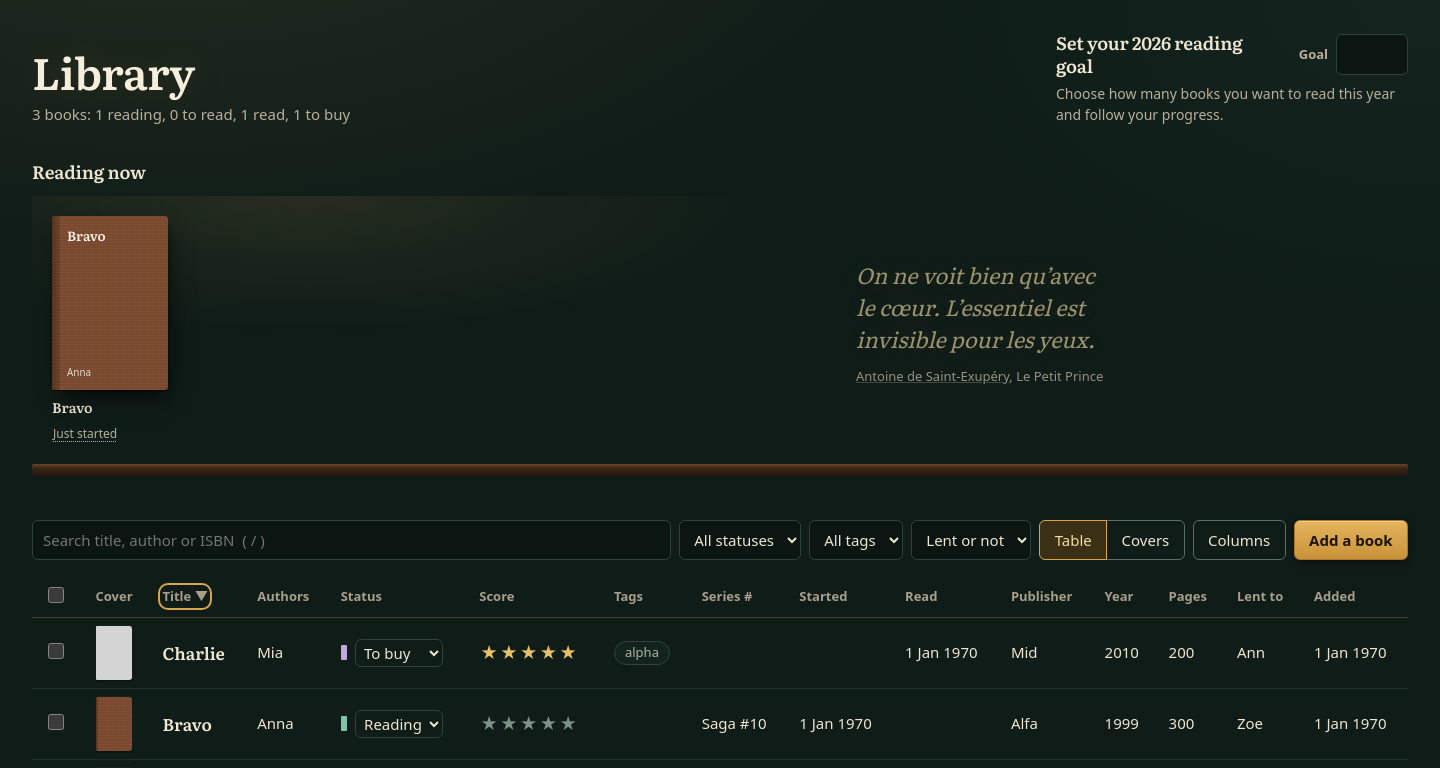
LibraryPage › sortsByEveryColumn
This screenshot has width=1440, height=768.
Earlier steps of the test are not shown.
Later steps or results of the test are not shown.
Expected: the column heading "Title ▼" has attribute aria-sort="descending", [150,576,245,617]
What coordinates should you click on to do the following:
click the button "Title ▼"
I would click on:
 (185, 596)
Its box is [162,587,208,606].
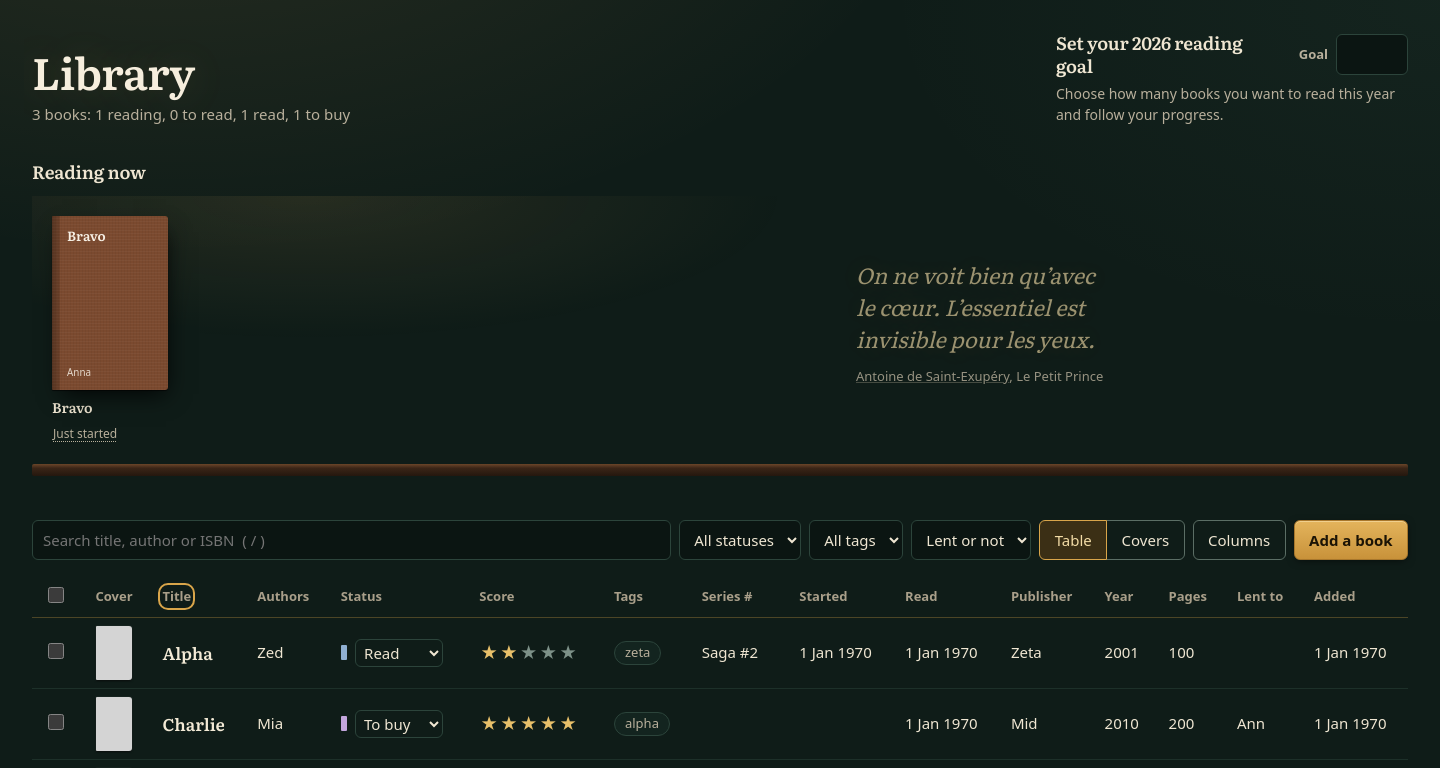
What coordinates should you click on to do the following:
click the button "Authors"
I would click on:
 (283, 596)
Its box is [257,587,309,606].
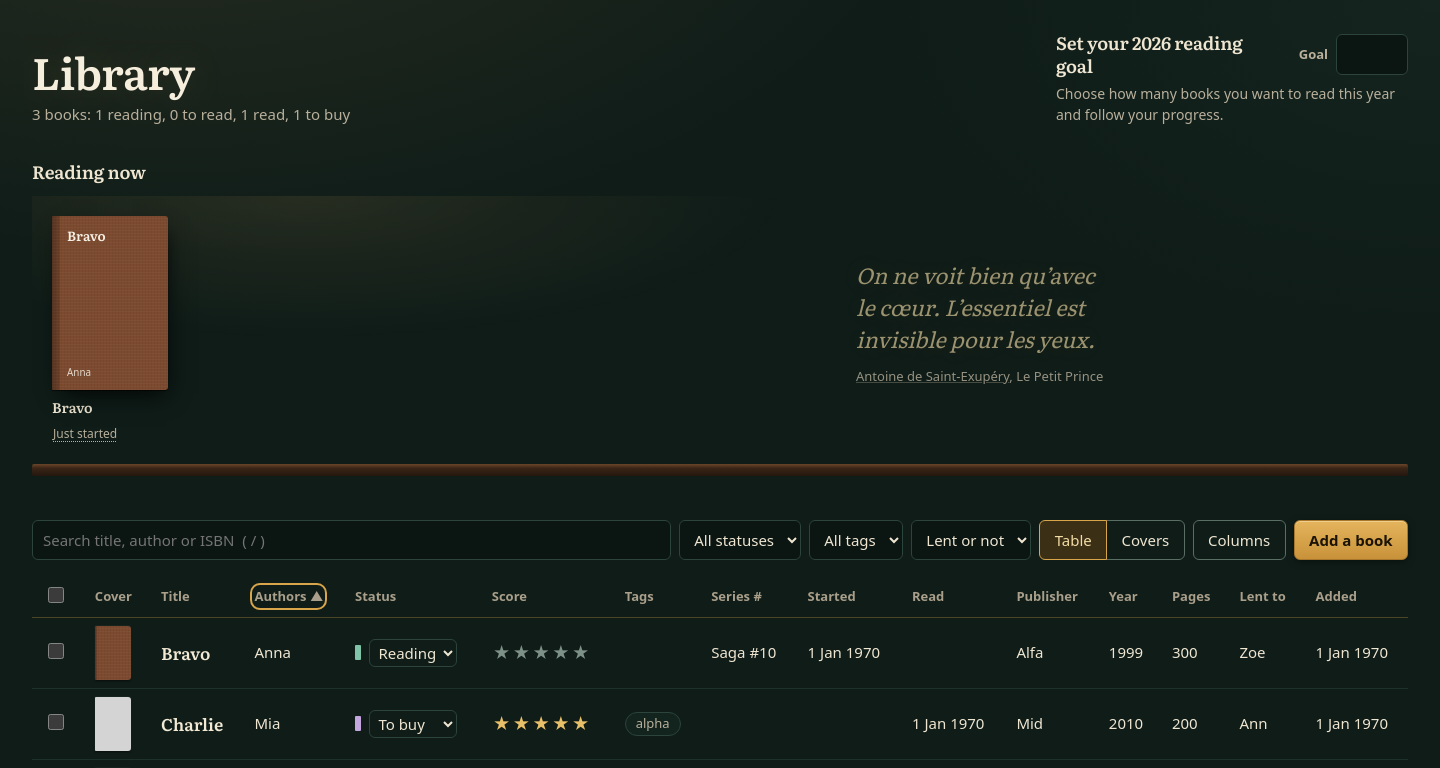
Now the column heading "Authors ▲" has attribute aria-sort="ascending", box [242,576,343,617]
What coordinates should you click on to do the following:
click the button "Authors ▲"
I would click on:
 (289, 596)
Its box is [254,587,323,606].
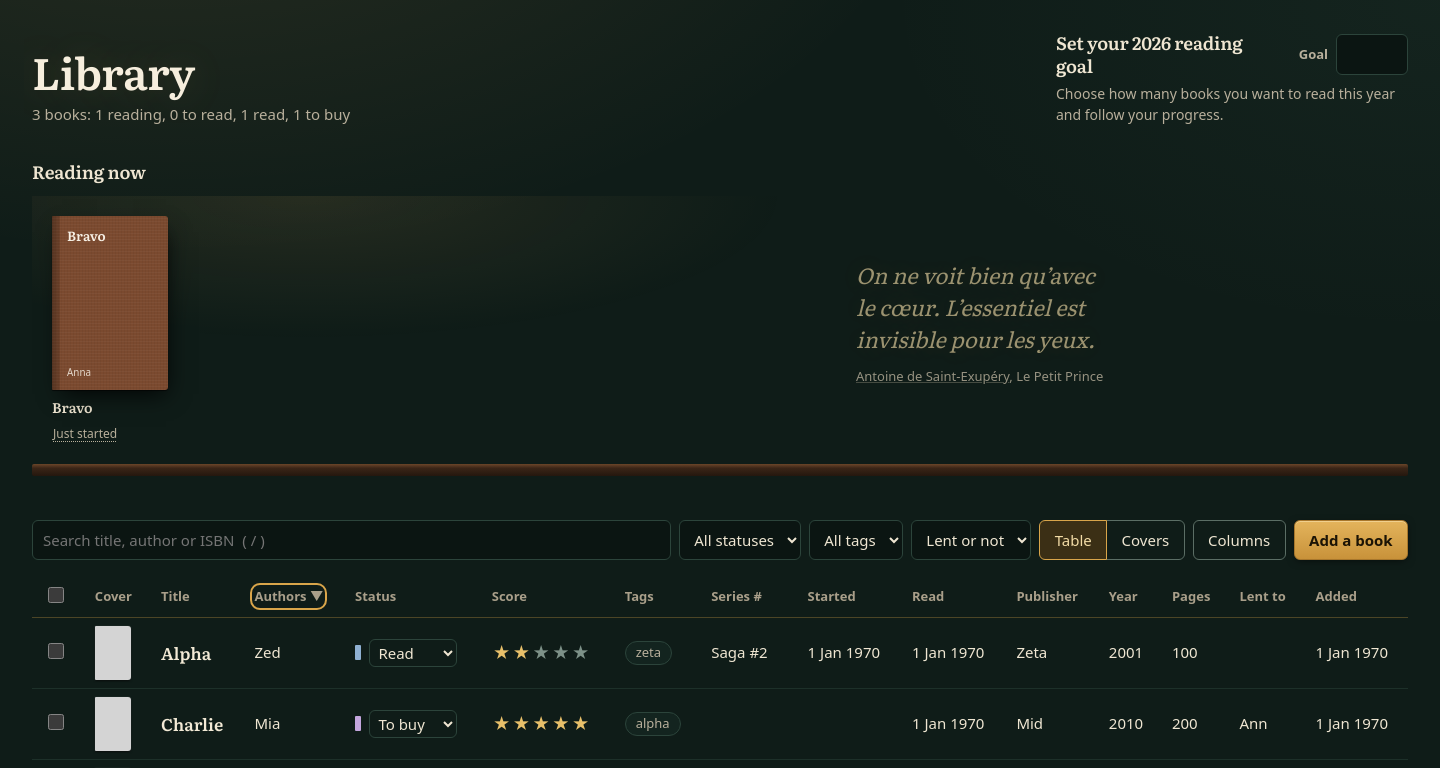
Now the column heading "Authors ▼" has attribute aria-sort="descending", box [242,576,343,617]
What coordinates should you click on to do the following:
click the button "Authors ▼"
I would click on:
 (289, 596)
Its box is [254,587,323,606].
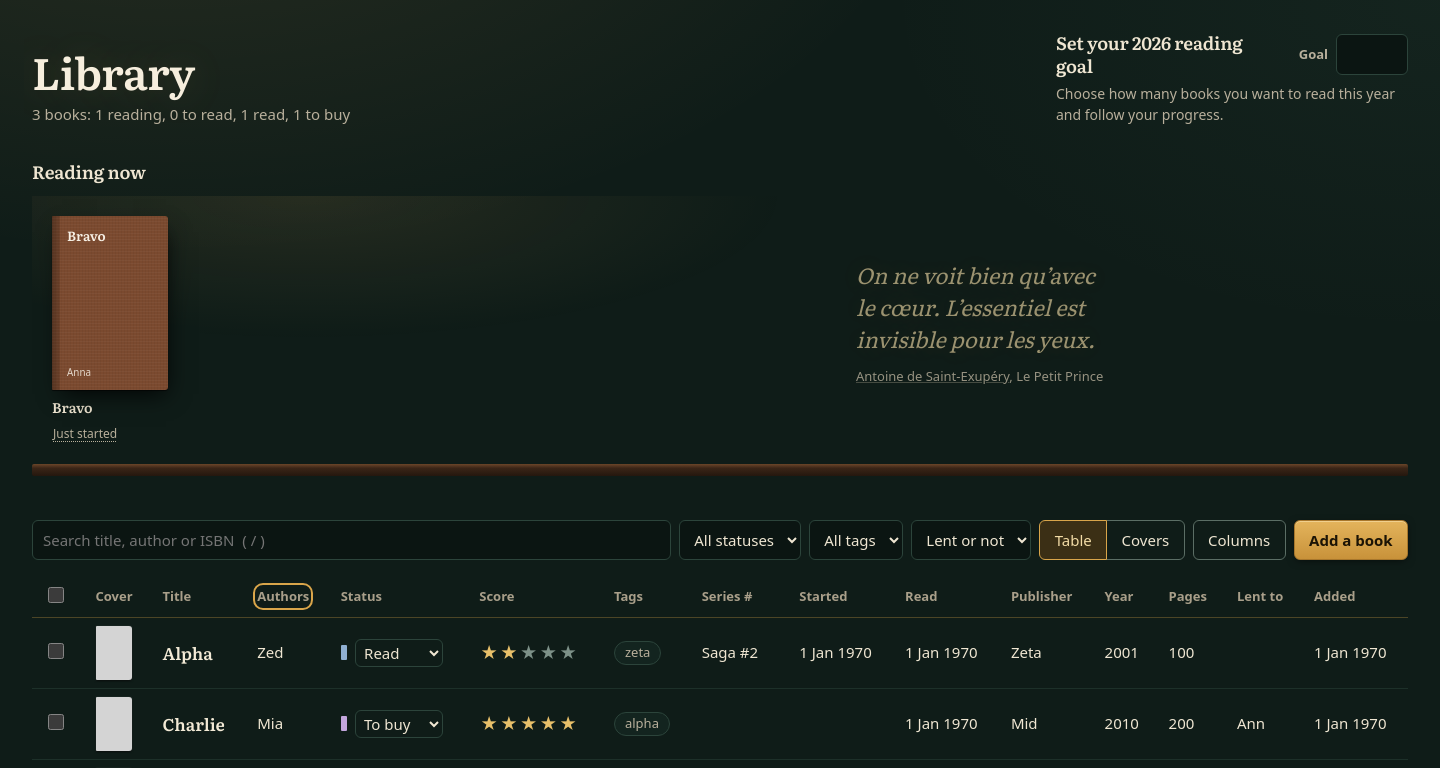
What coordinates should you click on to do the following:
click the button "Status"
I would click on:
 (361, 596)
Its box is [341,587,382,606].
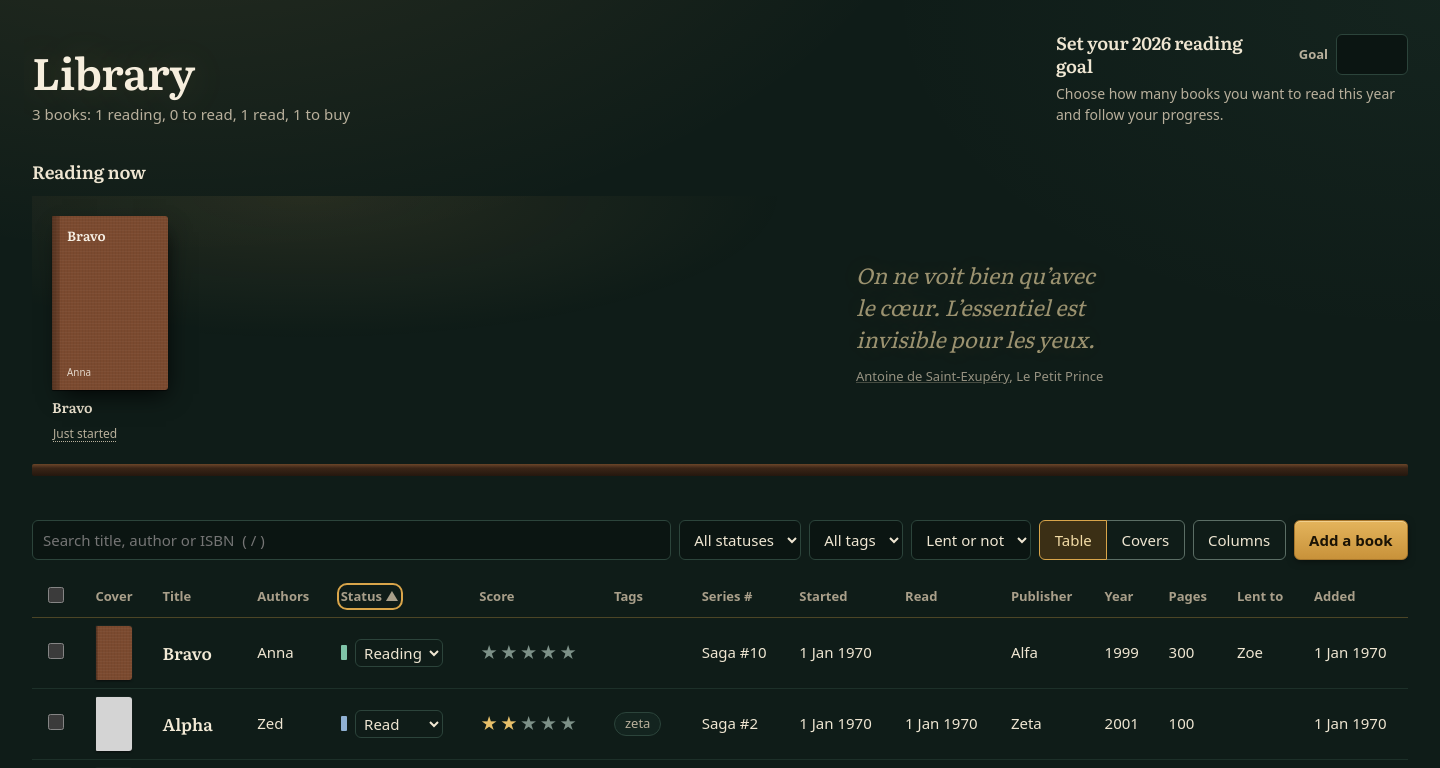
Now the column heading "Status ▲" has attribute aria-sort="ascending", box [329,576,467,617]
What coordinates should you click on to do the following:
click the button "Status ▲"
I would click on:
 (370, 596)
Its box is [341,587,399,606].
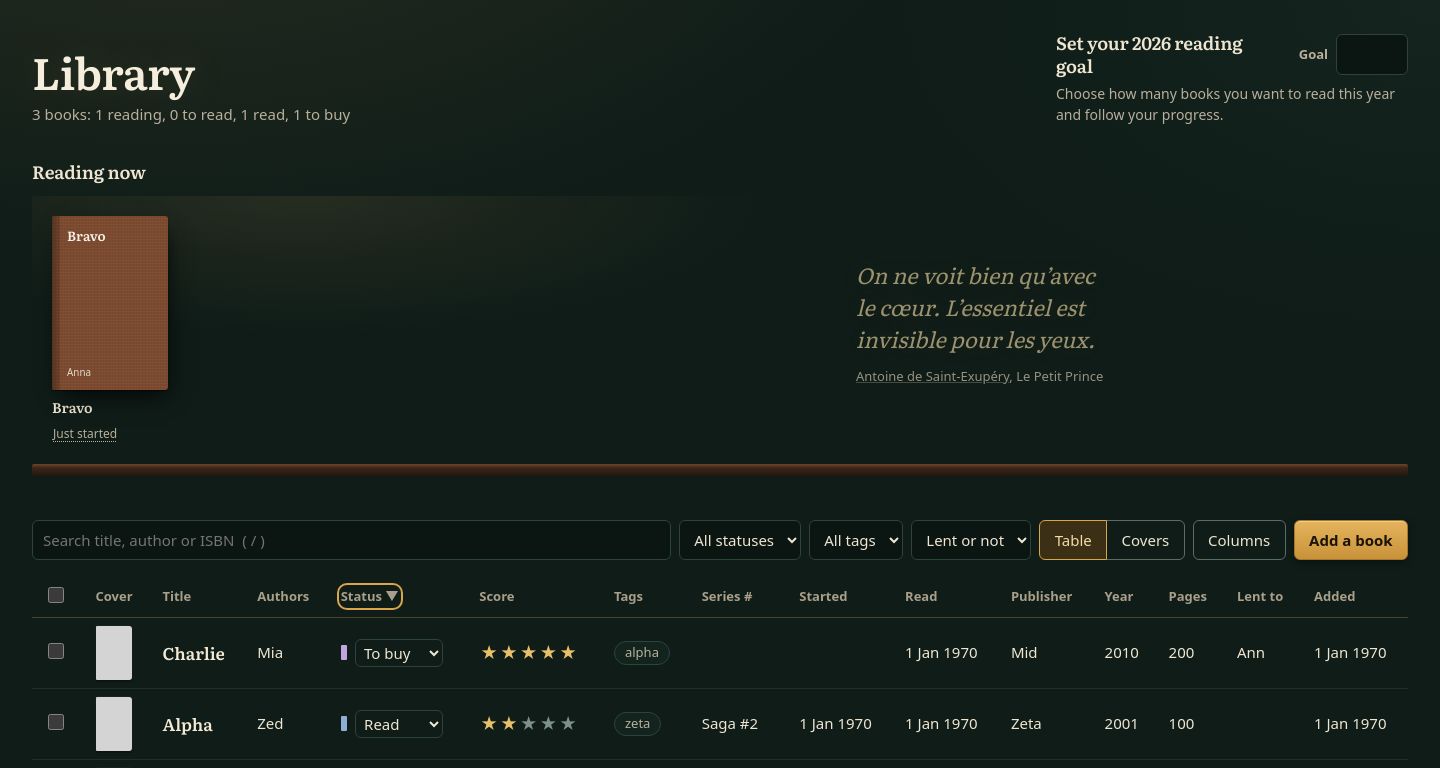
Now the column heading "Status ▼" has attribute aria-sort="descending", box [329,576,467,617]
